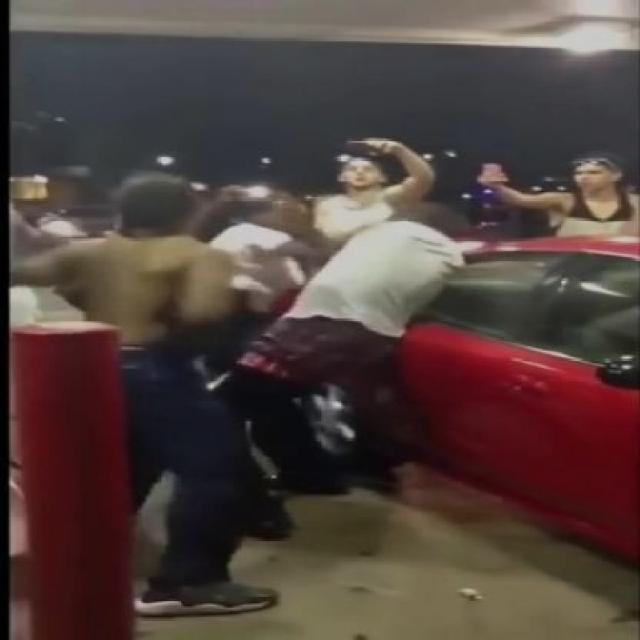fight: (9, 172, 477, 636)
non-fight: (478, 138, 638, 244)
